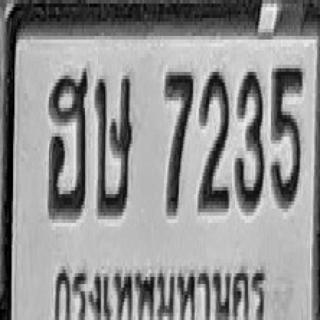A39: (95, 70, 132, 214)
A44: (48, 68, 88, 216)
N02: (197, 68, 229, 209)
N03: (235, 68, 264, 209)
N05: (271, 65, 303, 205)
N07: (164, 68, 193, 212)
P04: (51, 259, 270, 320)
